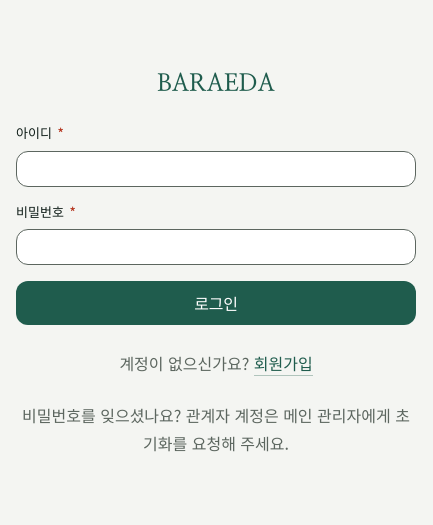
Test case: LoginForm — 에러 코드별 분기 › AUTH_STAFF_INACTIVE 는 퇴사 안내를 보여준다
Type "staffA" into the field labelled "아이디 *". click: (216, 169)
box: [16,151,416,187]
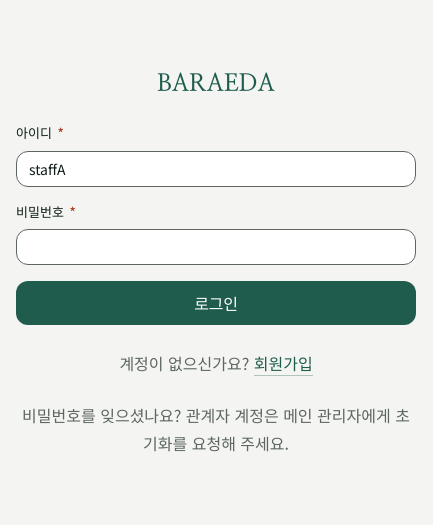
Type "password" into the password field labelled "비밀번호 *". click: (216, 247)
box: [16,229,416,265]
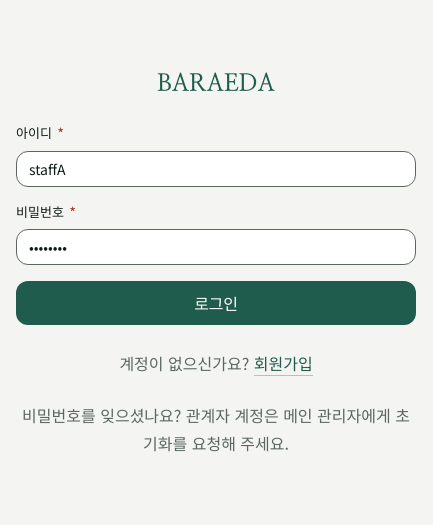
Submit the form, box [16,124,416,325]
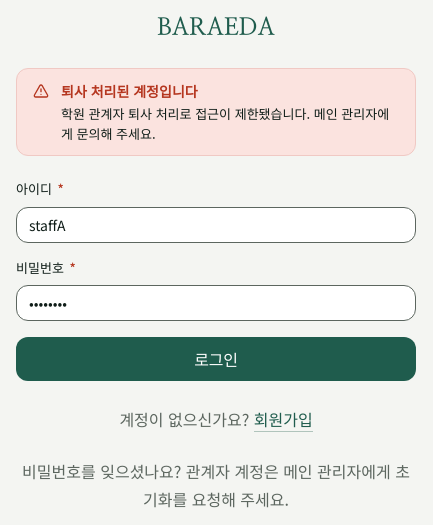
Expected: the button "로그인" is shown, [16,337,416,381]
Now the text "퇴사 처리된 계정입니다" is shown, box [61,81,198,101]
Now the text "학원 관계자 퇴사 처리로 접근이 제한됐습니다. 메인 관리자에게 문의해 주세요." is shown, box [61,104,399,143]
